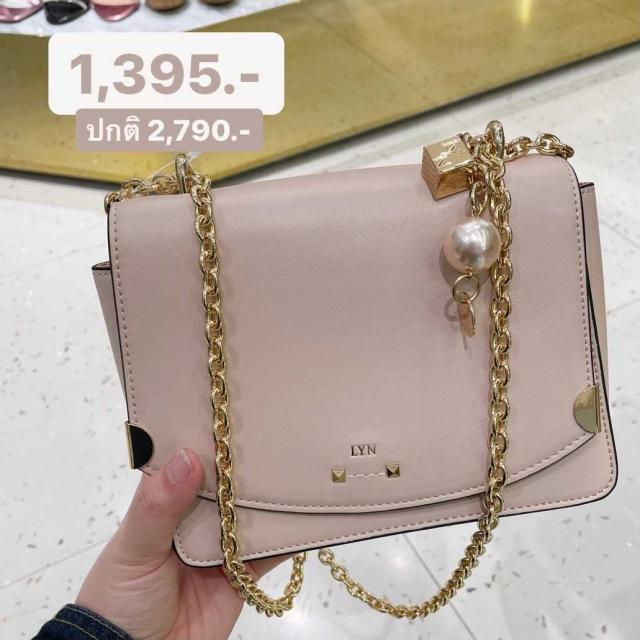handbag: (102, 129, 622, 567)
